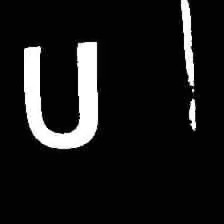LTR_U: (15, 30, 109, 157)
